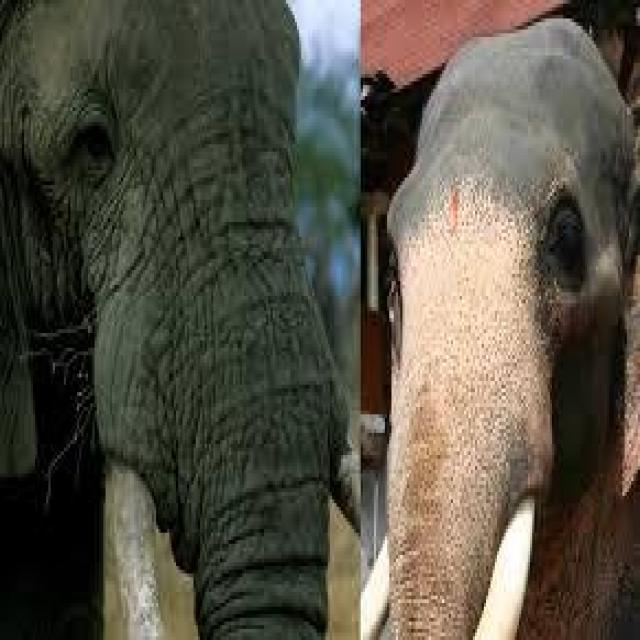Elephant: (0, 0, 354, 629), (380, 15, 638, 636)
